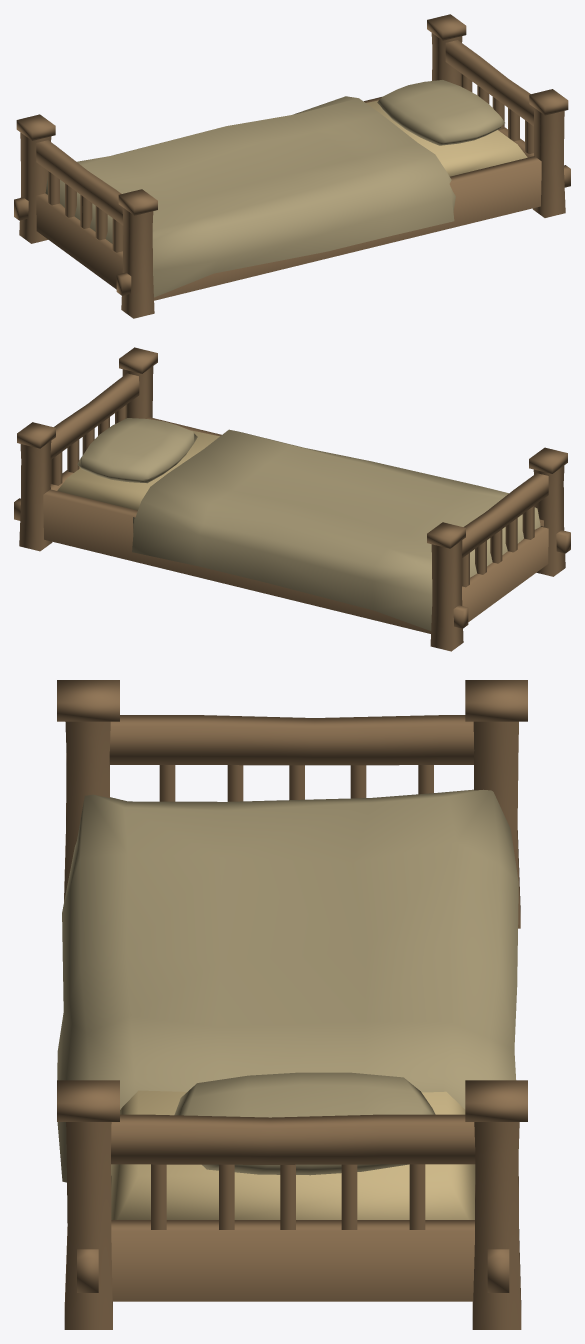
File: rpgpp_ag_bed_01a.fbx
The picture shows the model from 3 angles, top to bottom: view 1: azimuth 30°, elevation 25°; view 2: azimuth 150°, elevation 25°; view 3: azimuth 270°, elevation 25°; orthographic projection. The views are drawn at different scales.
Visible parts, largest first — view 1: rpgpp_ag_bed_01a; view 2: rpgpp_ag_bed_01a; view 3: rpgpp_ag_bed_01a.
Boxes of the visible parts, left/top/right/bottom form: rpgpp_ag_bed_01a: left=14, top=14, right=570, bottom=318; rpgpp_ag_bed_01a: left=14, top=347, right=570, bottom=651; rpgpp_ag_bed_01a: left=57, top=680, right=527, bottom=1329.
Size of the model in its own units: 2.74 by 0.6644 by 1.25.
